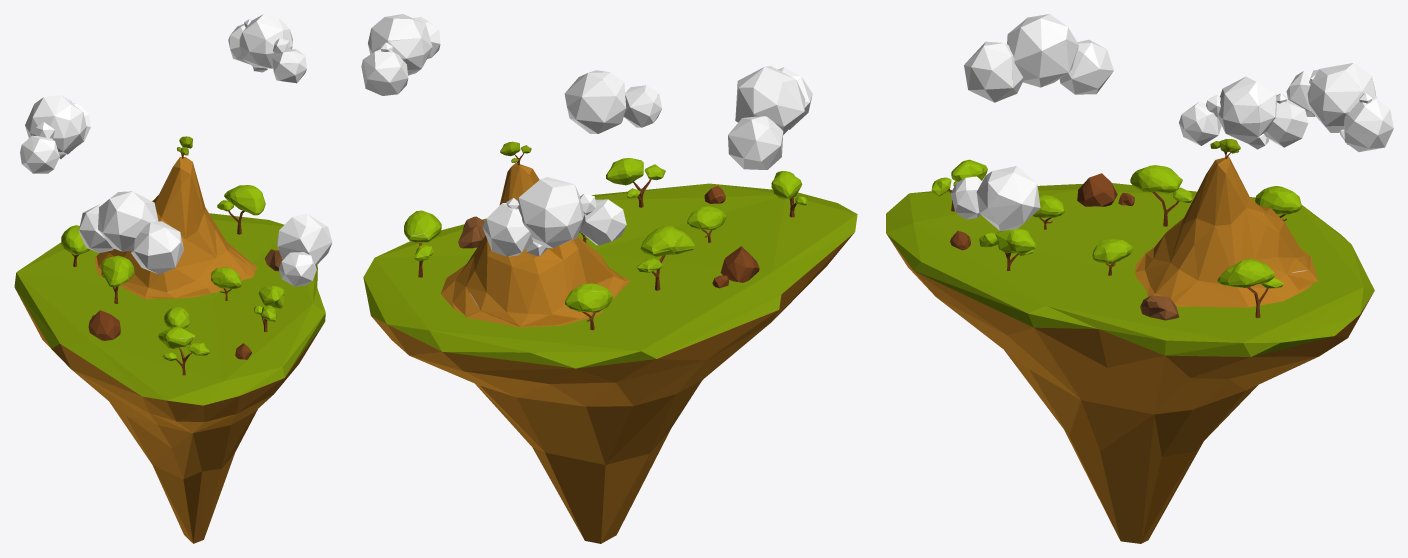
Rendered from Floating1.glb.
The picture shows the model from 3 angles, left to right: view 1: azimuth 30°, elevation 25°; view 2: azimuth 150°, elevation 25°; view 3: azimuth 270°, elevation 25°; orthographic projection. The views are drawn at different scales.
Visible parts, largest first — view 1: Island; view 2: Island; view 3: Island.
Boxes of the visible parts, x1,y1,x2,y2 form: Island: (14, 14, 332, 543); Island: (361, 14, 857, 543); Island: (886, 14, 1393, 543).
Bounding box in the file's own units: 76.39 × 113 × 98.72.
1 material, 1 textured.
